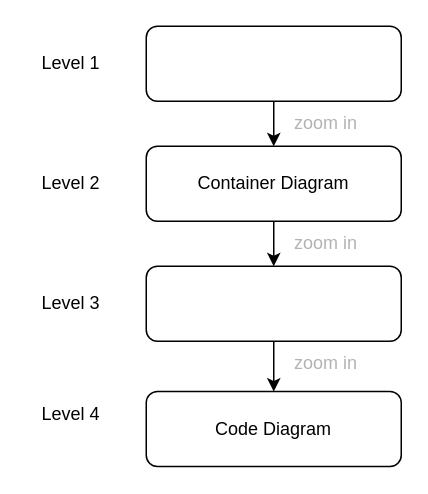
Some shapes in this 428 by 494 pixel diagram are drawn without their labels. The box of each missing label's shape, as (x1, y1, x2, y2) in pixels:
Component Diagram: (145, 265, 401, 341)
System Context Diagram: (145, 25, 401, 101)
